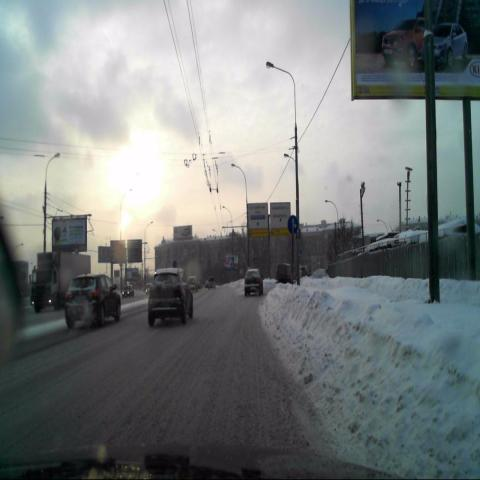4_1_4: (287, 213, 299, 234)
